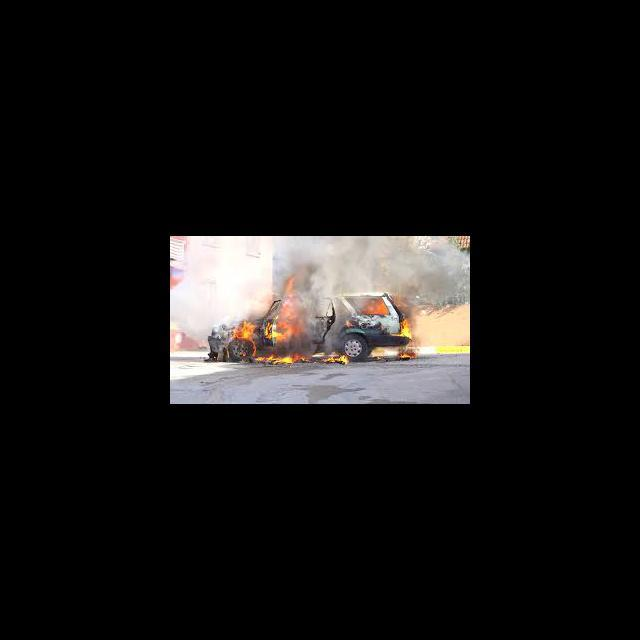Fire: (252, 352, 353, 368), (275, 278, 298, 316), (262, 318, 300, 341), (360, 298, 390, 316), (234, 319, 254, 341), (394, 318, 412, 339), (397, 350, 416, 362)
Smoke: (304, 238, 467, 294), (170, 242, 264, 320), (266, 238, 302, 276)
